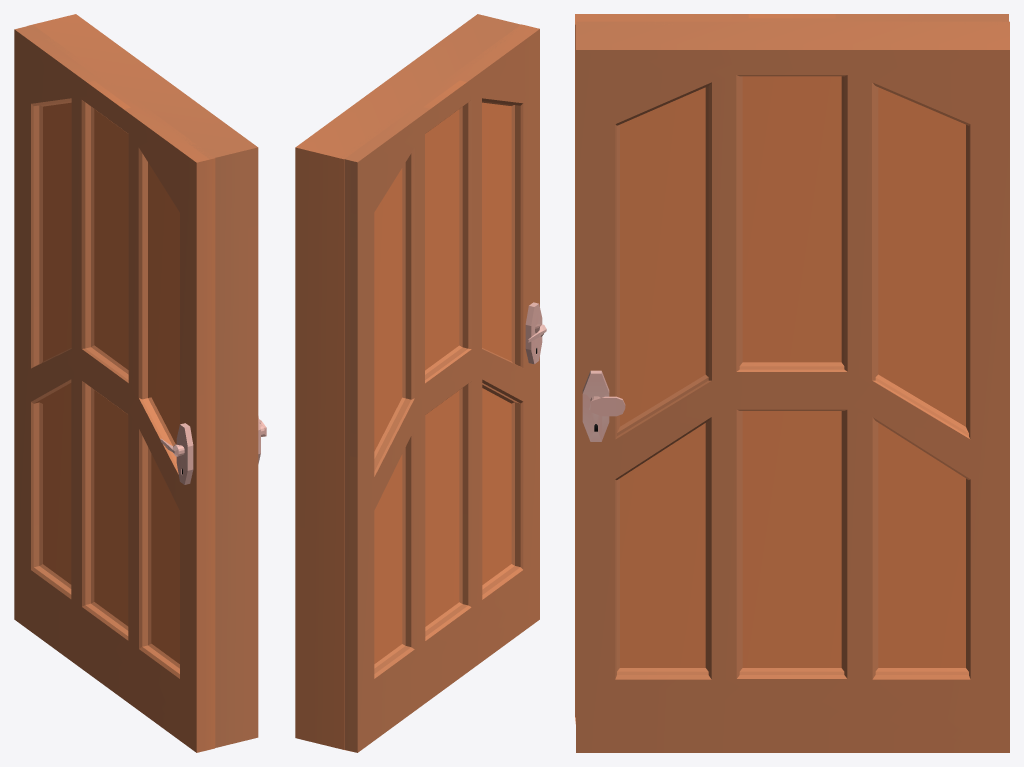
The model's file is Door-A.fbx.
3 views of the same model, side by side, from view 1: azimuth 30°, elevation 25°; view 2: azimuth 150°, elevation 25°; view 3: azimuth 270°, elevation 25° (orthographic). The views are drawn at different scales.
Parts seen in each view (by area): view 1: Door A; view 2: Door A; view 3: Door A.
Part boxes in pixels (x1,y1,x2,y2): Door A: (14,14,266,752); Door A: (295,14,546,752); Door A: (575,14,1009,752).
Size of the model in its own units: 79.9 by 497 by 279.
